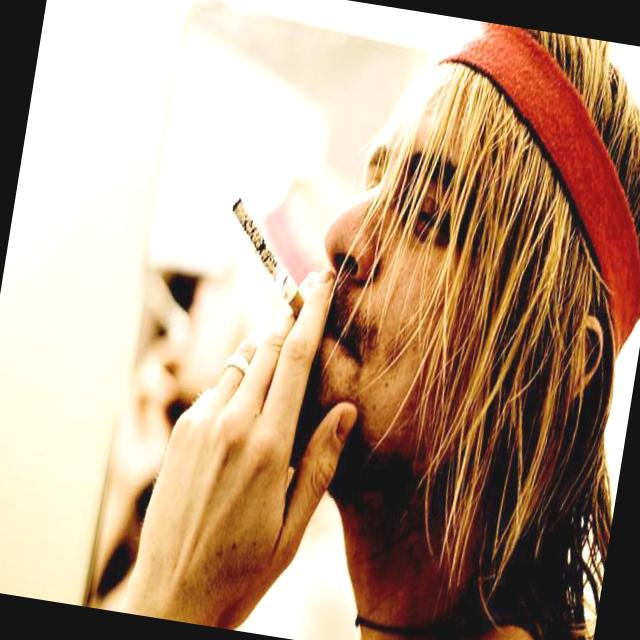smoke: (208, 185, 332, 342)
